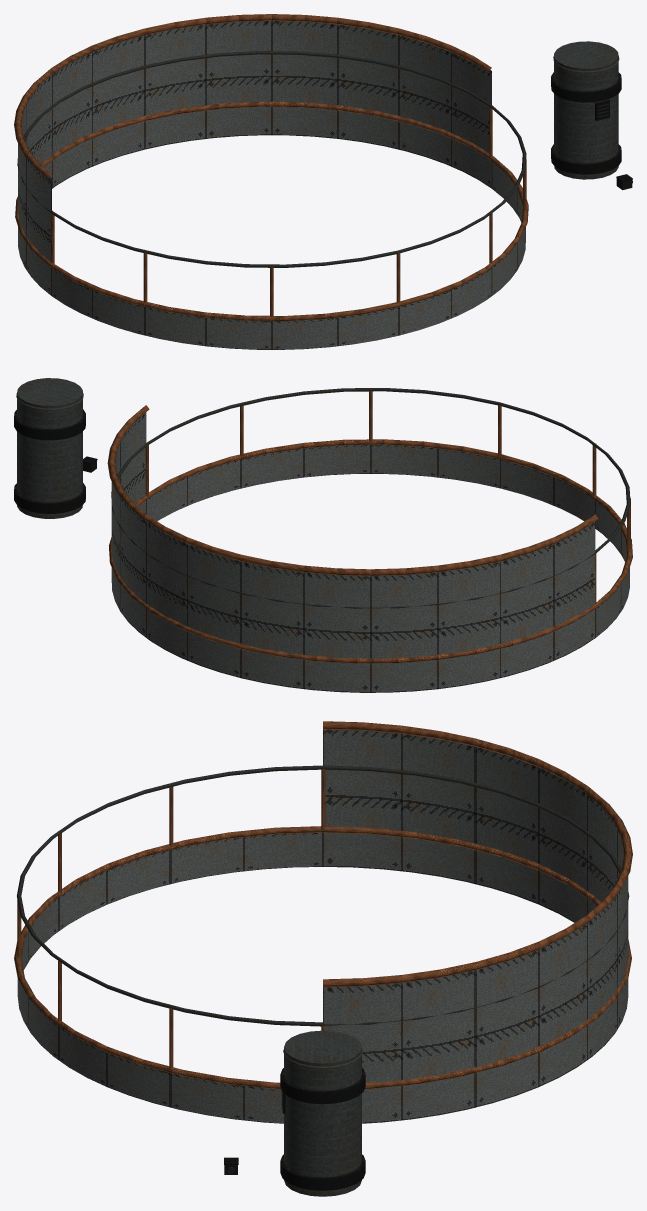
The model's file is lasersweep.glb.
3 views of the same model, one above another, from view 1: azimuth 30°, elevation 25°; view 2: azimuth 150°, elevation 25°; view 3: azimuth 270°, elevation 25° (orthographic). The views are drawn at different scales.
Visible parts, largest first — view 1: chamber, emitter; view 2: chamber, emitter; view 3: chamber, emitter.
Boxes of the visible parts, x1=… form: chamber: x1=14, y1=14, x2=528, y2=349; emitter: x1=551, y1=41, x2=621, y2=179; chamber: x1=107, y1=388, x2=632, y2=692; emitter: x1=14, y1=378, x2=85, y2=518; chamber: x1=14, y1=721, x2=632, y2=1123; emitter: x1=280, y1=1030, x2=365, y2=1196.
Bounding box in the file's own units: 17.18 × 3.5 × 13.48.
7 materials, 6 textured.
